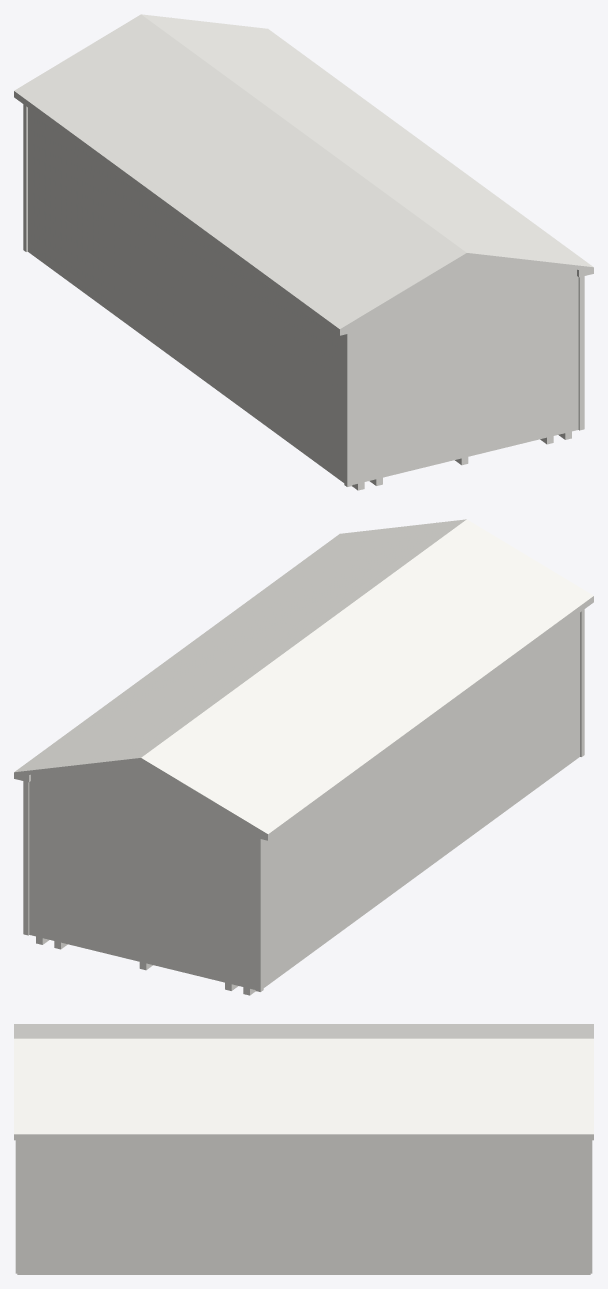
The model's file is 8 wide A-frame_7ft_12x28.obj.
3 views of the same model, one above another, from view 1: azimuth 30°, elevation 25°; view 2: azimuth 150°, elevation 25°; view 3: azimuth 270°, elevation 25° (orthographic). The views are drawn at different scales.
Visible parts, largest first — view 1: Shed, Roof, Sides, Trim; view 2: Shed, Roof, Sides, Trim; view 3: Shed, Roof, Sides, Trim, Floor.
Boxes of the visible parts, x1,y1,x2,y2 form: Shed: (28,108,578,484); Roof: (14,14,593,328); Sides: (14,91,593,335); Trim: (23,104,584,486); Shed: (29,613,579,989); Roof: (14,519,593,833); Sides: (14,596,593,840); Trim: (23,609,584,991); Shed: (20,1140,587,1272); Roof: (14,1024,593,1134); Sides: (14,1134,593,1140); Trim: (15,1140,592,1273); Floor: (17,1273,590,1274).
Size of the model in its own units: 3.89 by 3.12 by 8.64.
